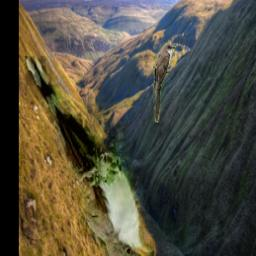Cuckoo: (26, 57, 155, 256), (153, 42, 175, 123)
